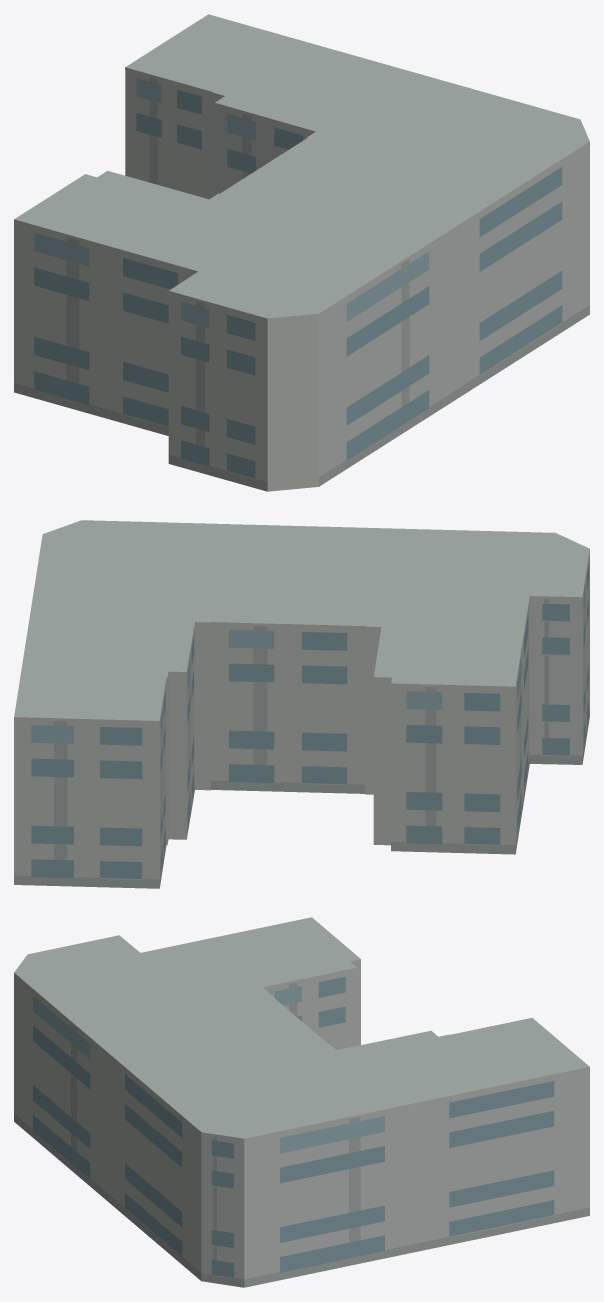
File: survey-upis-32915521.glb
The picture shows the model from 3 angles, top to bottom: view 1: azimuth 30°, elevation 25°; view 2: azimuth 150°, elevation 25°; view 3: azimuth 270°, elevation 25°; orthographic projection. The views are drawn at different scales.
Parts seen in each view (by area): view 1: survey-upis-32915521.tmp; view 2: survey-upis-32915521.tmp; view 3: survey-upis-32915521.tmp.
Part boxes in pixels (bbox=[...]): survey-upis-32915521.tmp: bbox=[14, 14, 589, 491]; survey-upis-32915521.tmp: bbox=[14, 520, 589, 888]; survey-upis-32915521.tmp: bbox=[14, 917, 589, 1287].
Size of the model in its own units: 48.62 by 15.25 by 53.42.
